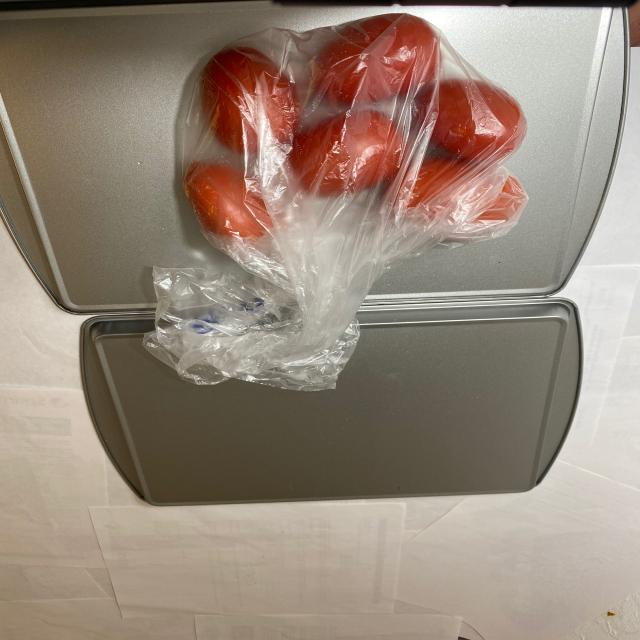tomato: (172, 15, 529, 256)
